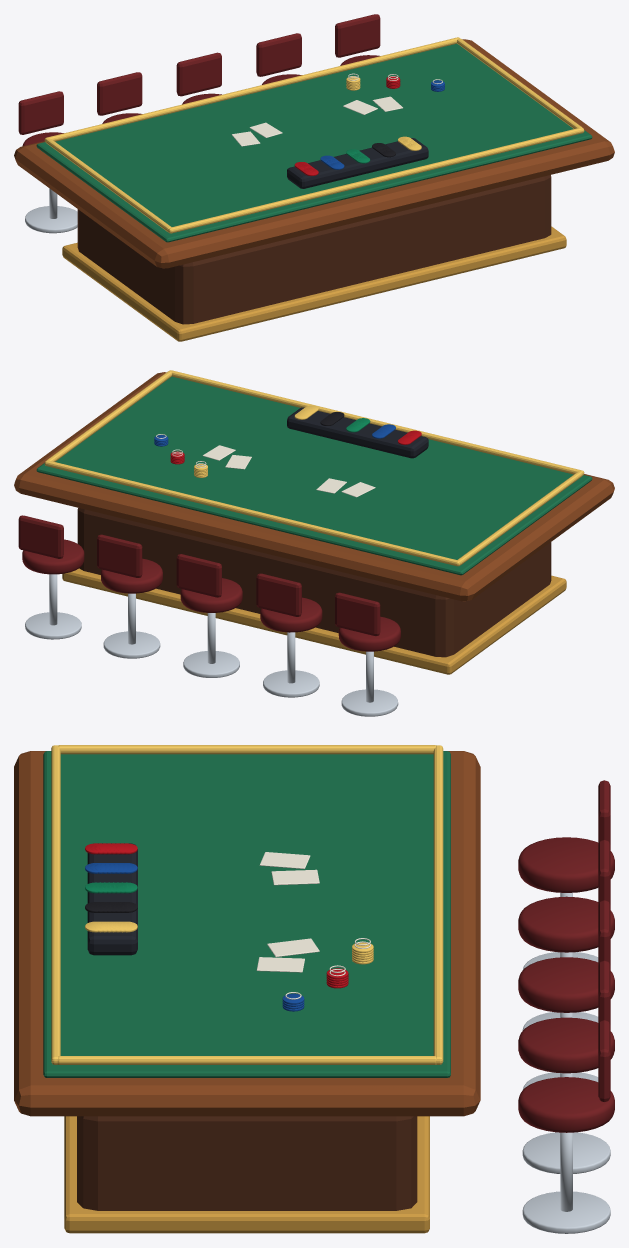
File: blackjack_table.glb
3 views of the same model, one above another, from view 1: azimuth 30°, elevation 25°; view 2: azimuth 150°, elevation 25°; view 3: azimuth 270°, elevation 25° (orthographic). The views are drawn at different scales.
Visible parts, largest first — view 1: Inlaid green felt, Carved walnut pedestal, Table top, Brass plinth, Gold rail north, Gold rail south, Dealer chip rack, Stool back.001, Stool back.004, Stool back, Stool back.003, Stool back.002 (+3 smaller); view 2: Inlaid green felt, Carved walnut pedestal, Table top, Brass plinth, Gold rail south, Dealer chip rack, Gold rail north, Stool back, Stool back.001, Stool back.004, Stool back.002, Stool back.003 (+12 smaller); view 3: Inlaid green felt, Table top, Carved walnut pedestal, Brass plinth, Leather seat.004, Leather seat.002, Leather seat, Leather seat.003, Leather seat.001, Gold rail west, Gold rail south, Gold rail east (+14 smaller).
Boxes of the visible parts, x1,y1,x2,y2 form: Inlaid green felt: (36, 43, 592, 242); Carved walnut pedestal: (77, 175, 551, 324); Table top: (14, 39, 614, 268); Brass plinth: (62, 226, 566, 341); Gold rail north: (168, 127, 584, 233); Gold rail south: (44, 37, 459, 142); Dealer chip rack: (287, 138, 428, 188); Stool back.001: (97, 72, 142, 115); Stool back.004: (335, 14, 380, 57); Stool back: (18, 91, 63, 134); Stool back.003: (256, 33, 301, 76); Stool back.002: (176, 52, 221, 96); Inlaid green felt: (36, 376, 592, 575); Carved walnut pedestal: (77, 508, 551, 657); Table top: (14, 372, 614, 601); Brass plinth: (62, 568, 566, 674); Gold rail south: (44, 460, 460, 566); Dealer chip rack: (287, 407, 428, 458); Gold rail north: (169, 370, 584, 475); Stool back: (335, 592, 380, 636); Stool back.001: (256, 573, 301, 616); Stool back.004: (18, 515, 63, 558); Stool back.002: (176, 554, 221, 597); Stool back.003: (97, 534, 142, 577); Inlaid green felt: (43, 751, 450, 1077); Table top: (14, 751, 480, 1116); Carved walnut pedestal: (77, 1116, 417, 1210); Brass plinth: (64, 1116, 429, 1233); Leather seat.004: (518, 1077, 614, 1132); Leather seat.002: (518, 957, 614, 1012); Leather seat: (518, 837, 614, 892); Leather seat.003: (518, 1017, 614, 1073); Leather seat.001: (518, 896, 614, 952); Gold rail west: (58, 745, 435, 754); Gold rail south: (433, 745, 443, 1064); Gold rail east: (57, 1056, 436, 1064).
Bounding box in the file's own units: 3.92 × 1.12 × 2.86.
